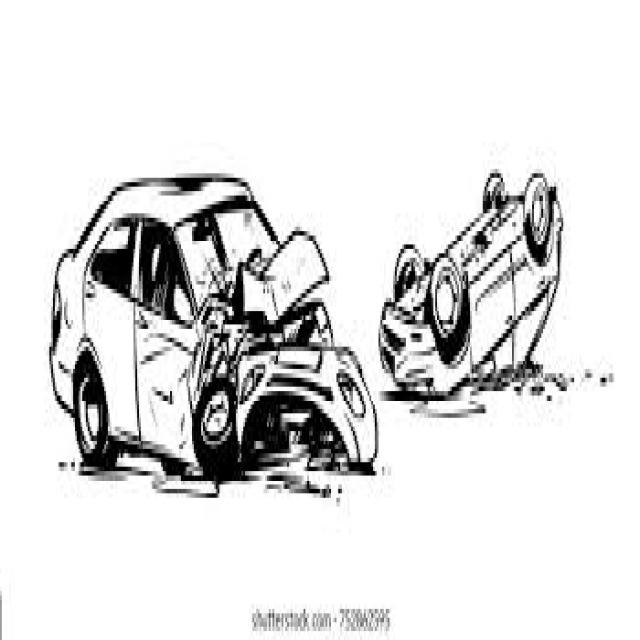accident: (46, 67, 570, 480), (39, 131, 378, 522), (380, 142, 580, 411)
